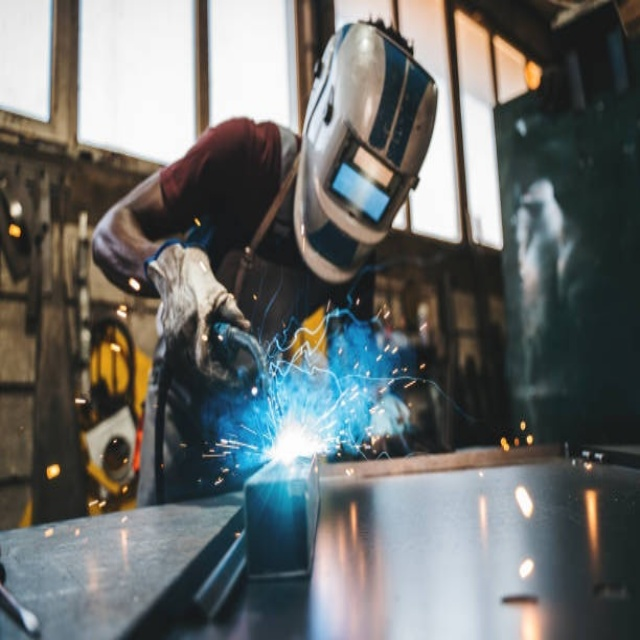Guantes: (146, 238, 254, 389)
